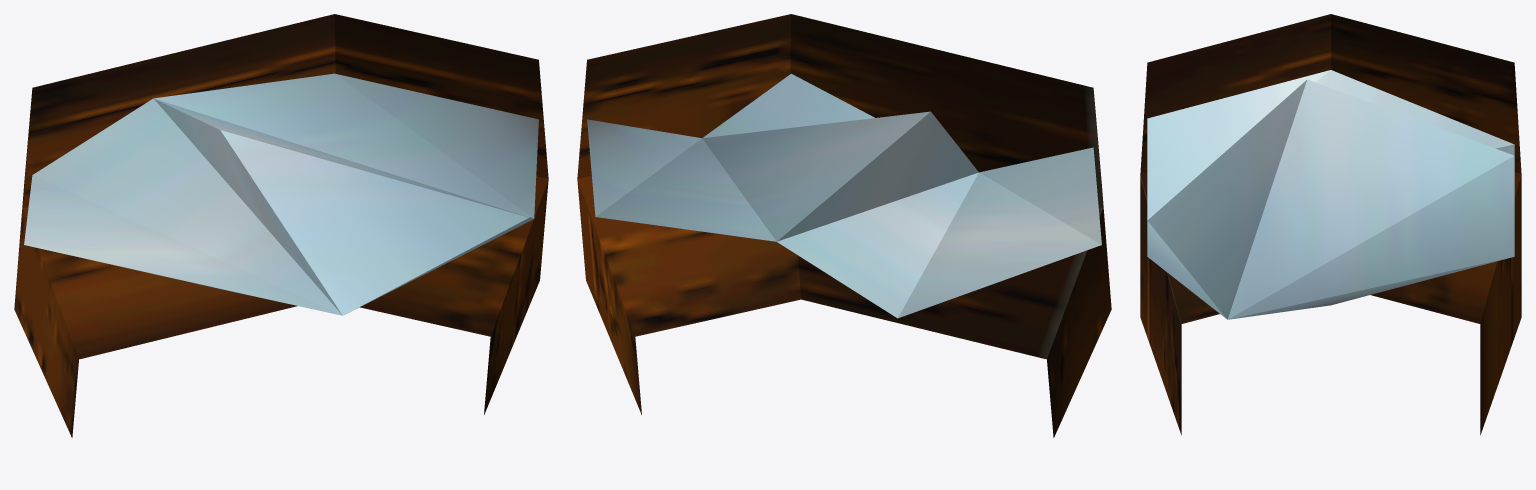
The model's file is Wäschekorb_1383.glb.
3 views of the same model, side by side, from view 1: azimuth 30°, elevation 25°; view 2: azimuth 150°, elevation 25°; view 3: azimuth 270°, elevation 25° (orthographic). The views are drawn at different scales.
Parts seen in each view (by area): view 1: pCylinderShape219, pCylinderShape218; view 2: pCylinderShape218, pCylinderShape219; view 3: pCylinderShape219, pCylinderShape218.
Part boxes in pixels (x1,y1,x2,y2): pCylinderShape219: (24,73,538,315); pCylinderShape218: (14,14,548,437); pCylinderShape218: (577,14,1111,437); pCylinderShape219: (587,73,1101,318); pCylinderShape219: (1147,70,1514,319); pCylinderShape218: (1140,14,1521,435).
Bounding box in the file's own units: 0.1762 × 0.0898 × 0.1162.
2 materials, 2 textured.
